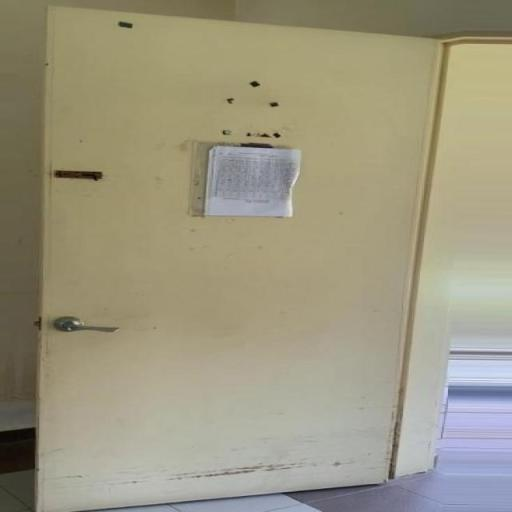door: (35, 5, 442, 510)
